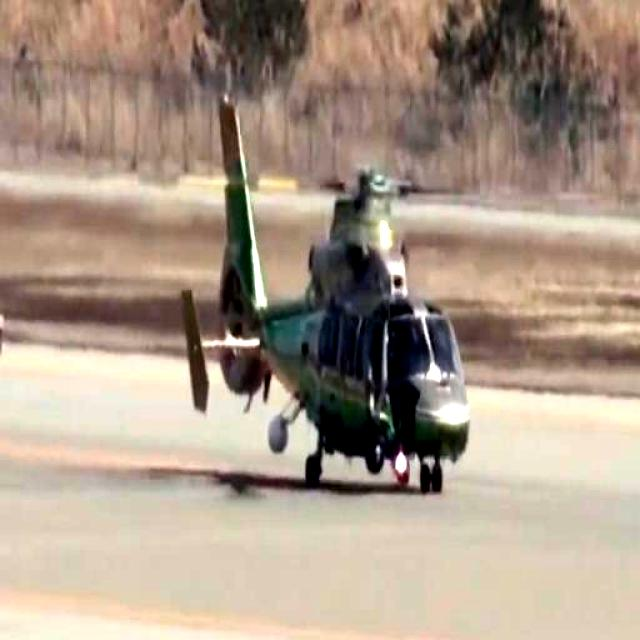drone: (184, 92, 506, 501)
